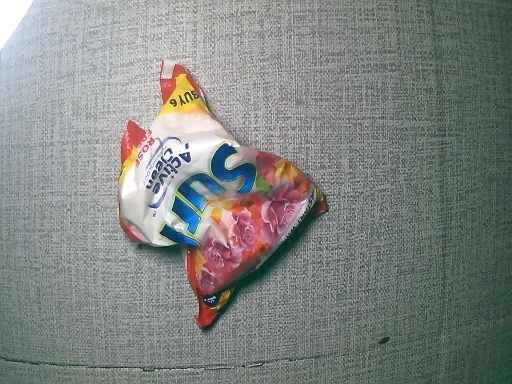plastic: (115, 66, 327, 334)
